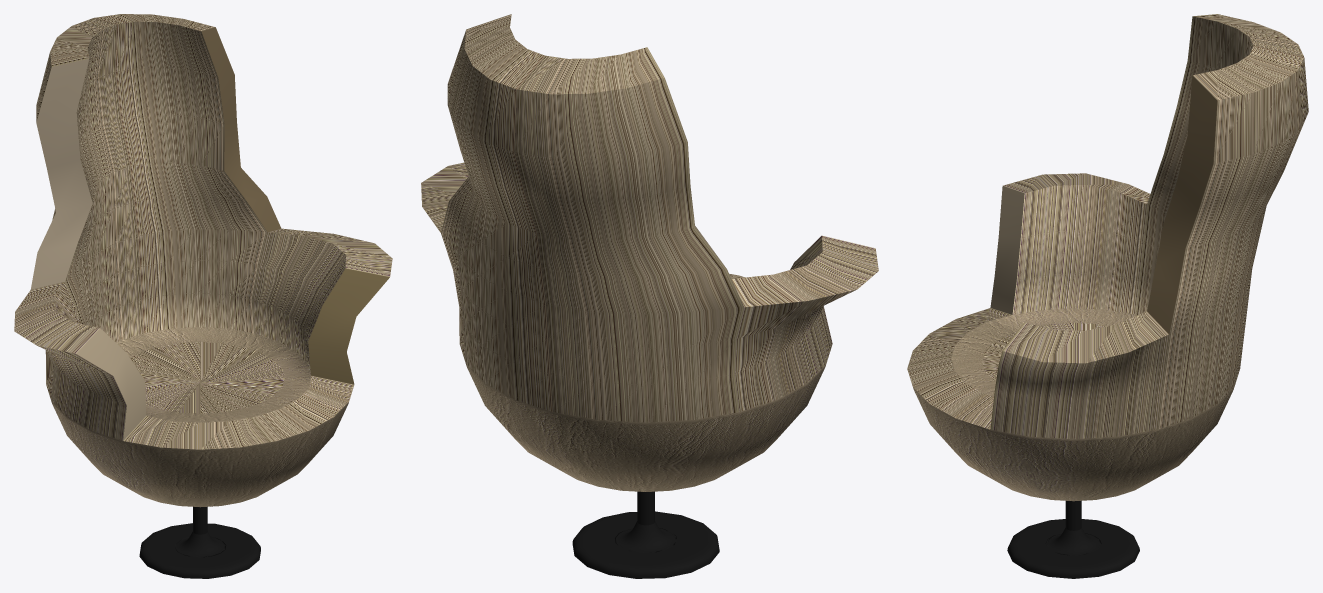
The model's file is poltrona.FBX.
3 views of the same model, side by side, from view 1: azimuth 30°, elevation 25°; view 2: azimuth 150°, elevation 25°; view 3: azimuth 270°, elevation 25° (orthographic). The views are drawn at different scales.
Parts seen in each view (by area): view 1: Sphere001, Line001; view 2: Sphere001, Line001; view 3: Sphere001, Line001.
Boxes of the visible parts, x1=… form: Sphere001: x1=14, y1=14, x2=392, y2=507; Line001: x1=139, y1=506, x2=260, y2=578; Sphere001: x1=421, y1=14, x2=878, y2=491; Line001: x1=572, y1=491, x2=719, y2=578; Sphere001: x1=907, y1=14, x2=1308, y2=501; Line001: x1=1007, y1=500, x2=1139, y2=578.
Bounding box in the file's own units: 58.78 × 72.85 × 52.49.
Materials: 2 (1 with a texture image).
